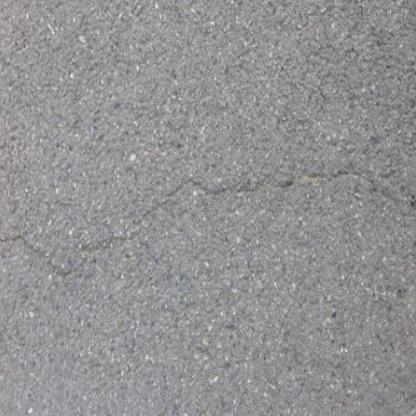Cracks: (0, 152, 416, 278)
